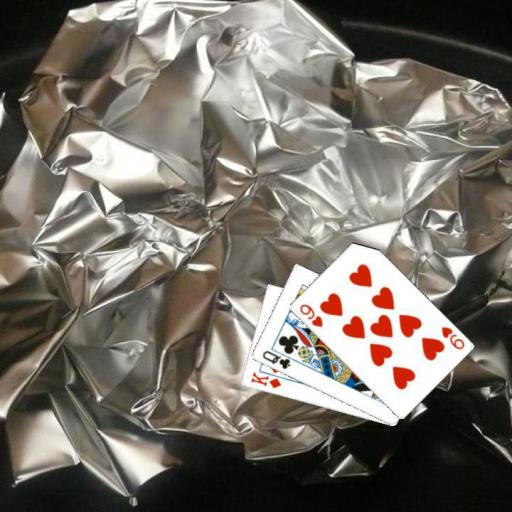9H: (438, 324, 466, 351), (296, 301, 323, 328)
KD: (248, 369, 283, 390)
QC: (259, 347, 291, 371)
